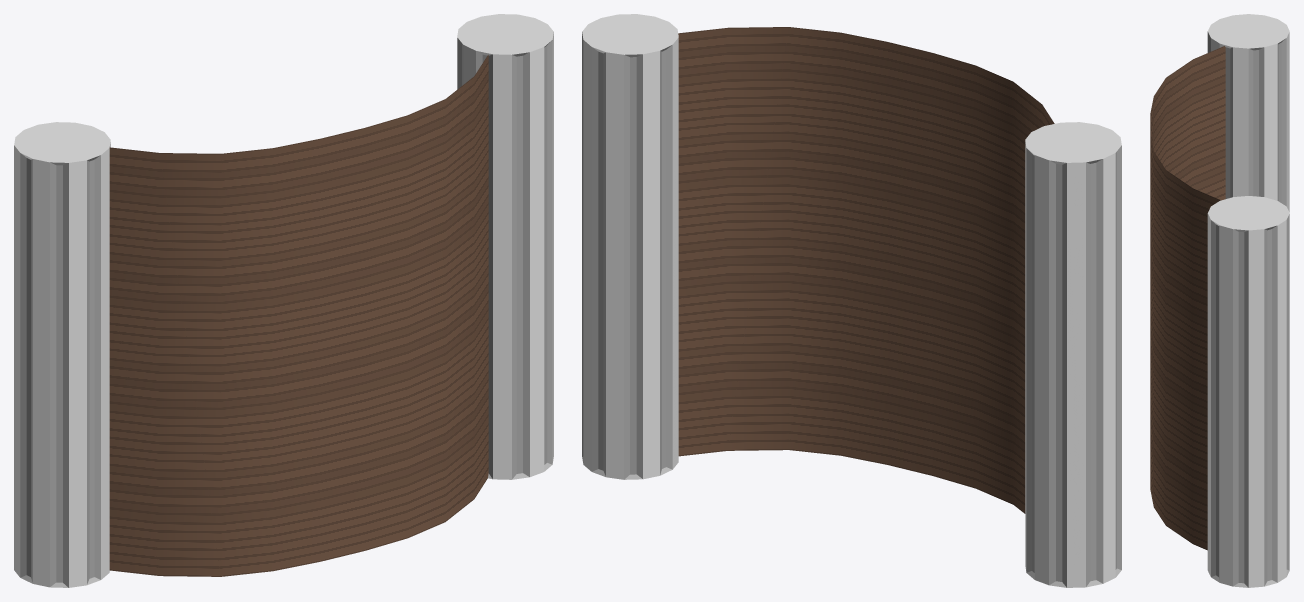
File: menu_pillars.glb
The picture shows the model from 3 angles, left to right: view 1: azimuth 30°, elevation 25°; view 2: azimuth 150°, elevation 25°; view 3: azimuth 270°, elevation 25°; orthographic projection. The views are drawn at different scales.
Parts seen in each view (by area): view 1: menu_BG, pillars; view 2: menu_BG, pillars; view 3: pillars, menu_BG.
Boxes of the visible parts, x1=… form: menu_BG: x1=109, y1=55, x2=488, y2=576; pillars: x1=14, y1=14, x2=553, y2=587; menu_BG: x1=678, y1=27, x2=1054, y2=513; pillars: x1=582, y1=14, x2=1121, y2=587; pillars: x1=1207, y1=14, x2=1289, y2=587; menu_BG: x1=1150, y1=46, x2=1225, y2=550.
Size of what is drawn, in the model's own units: 1.3 by 1 by 0.3555.
Materials: 2 (2 with a texture image).
